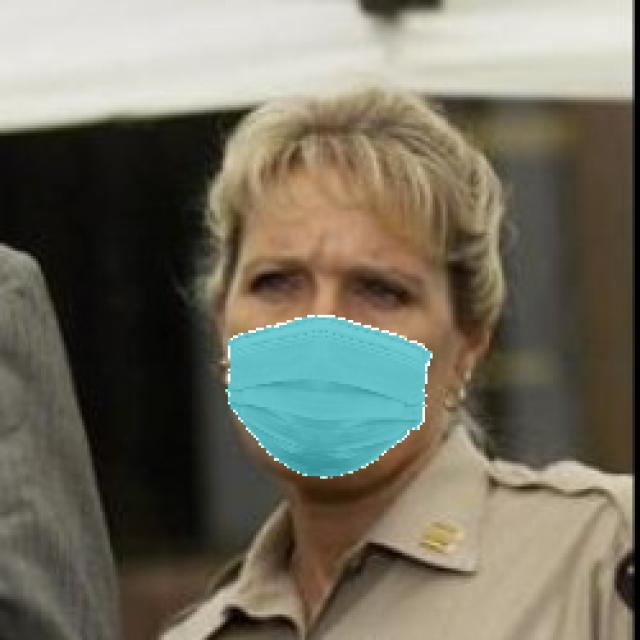mask: (222, 307, 448, 495)
